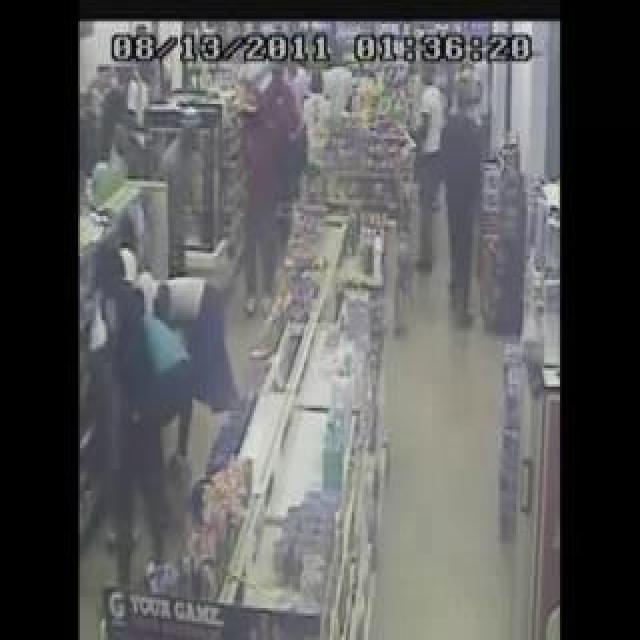thief: (88, 242, 192, 354), (251, 49, 318, 166), (419, 67, 475, 176)
